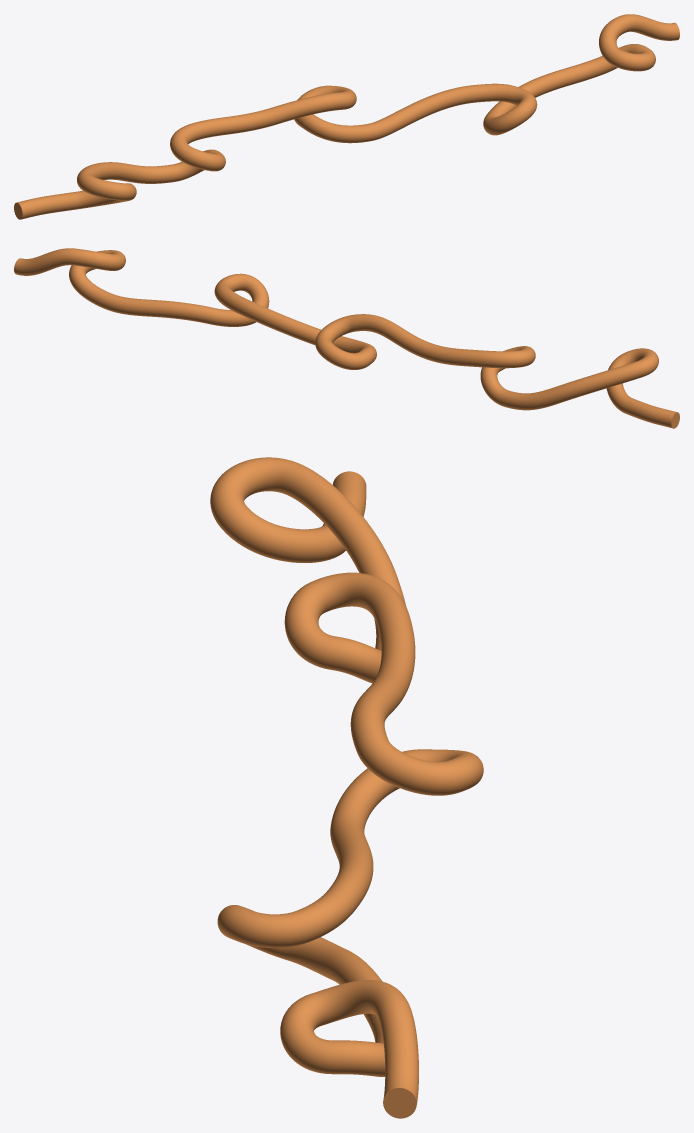
3 views of the same model, one above another, from view 1: azimuth 30°, elevation 25°; view 2: azimuth 150°, elevation 25°; view 3: azimuth 270°, elevation 25° (orthographic). The views are drawn at different scales.
Parts seen in each view (by area): view 1: BézierCurve; view 2: BézierCurve; view 3: BézierCurve.
Boxes of the visible parts, <box> form: BézierCurve: <box>14,14,679,219</box>; BézierCurve: <box>14,248,679,428</box>; BézierCurve: <box>210,457,483,1118</box>.
Bounding box in the file's own units: 2.15 × 0.1875 × 0.3949.
